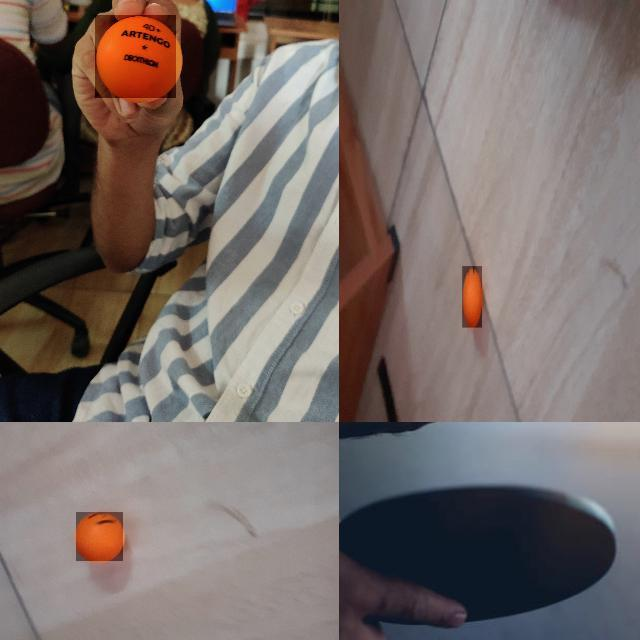ping-pong-ball: (95, 15, 177, 99), (76, 512, 124, 562), (462, 266, 482, 328)
